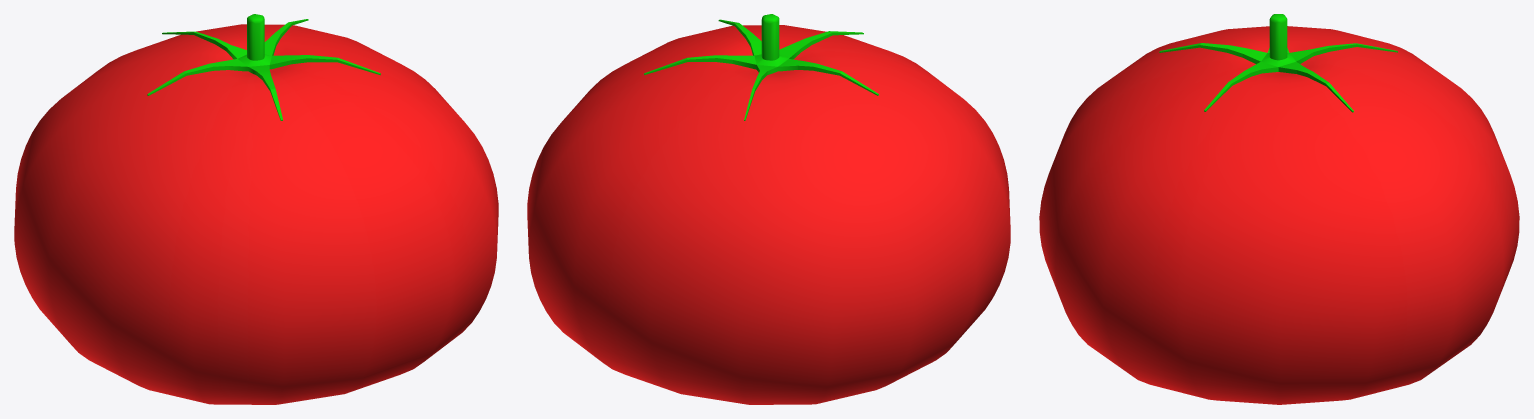
The model's file is Tomato.FBX.
3 views of the same model, side by side, from view 1: azimuth 30°, elevation 25°; view 2: azimuth 150°, elevation 25°; view 3: azimuth 270°, elevation 25° (orthographic).
Parts seen in each view (by area): view 1: Box001, Cylinder001; view 2: Box001, Cylinder001; view 3: Box001, Cylinder001.
Boxes of the visible parts, x1,y1,x2,y2 form: Box001: (14, 24, 498, 404); Cylinder001: (147, 14, 380, 120); Box001: (527, 25, 1010, 404); Cylinder001: (644, 14, 878, 120); Box001: (1039, 26, 1519, 404); Cylinder001: (1159, 14, 1397, 112).
Bounding box in the file's own units: 83.35 × 83.35 × 66.62.
Materials: 2 (2 with a texture image).
